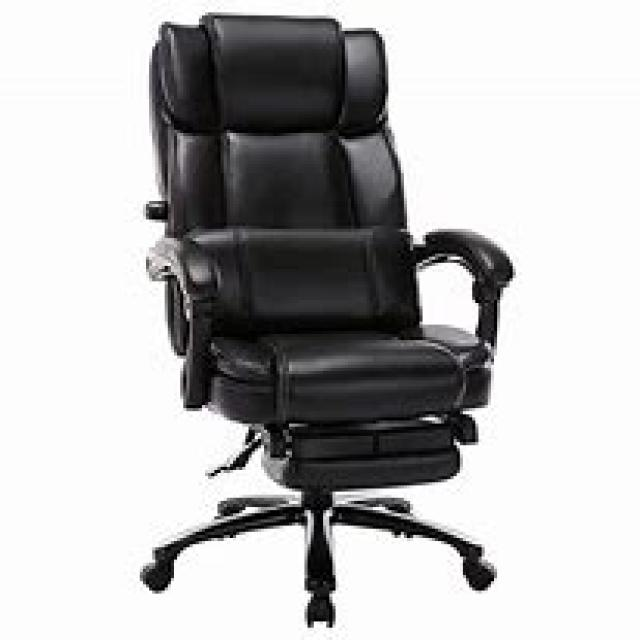chair: (137, 9, 512, 628)
